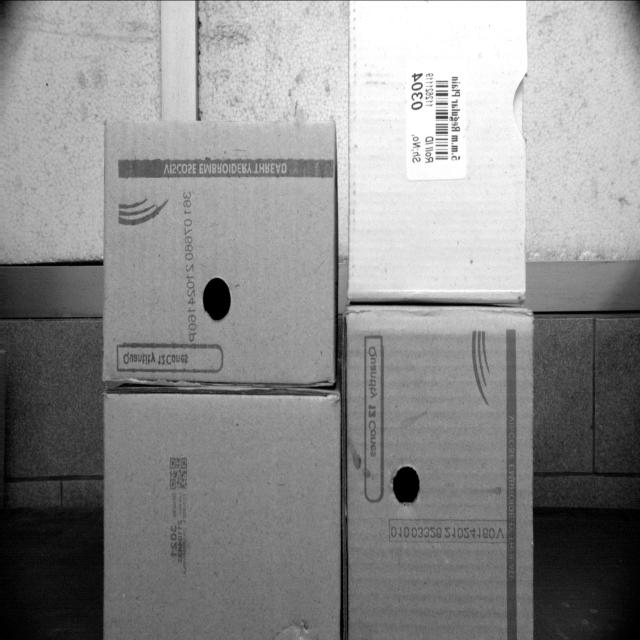cardboxes: (102, 120, 338, 381), (102, 395, 346, 639), (350, 314, 530, 639), (346, 0, 526, 301)
